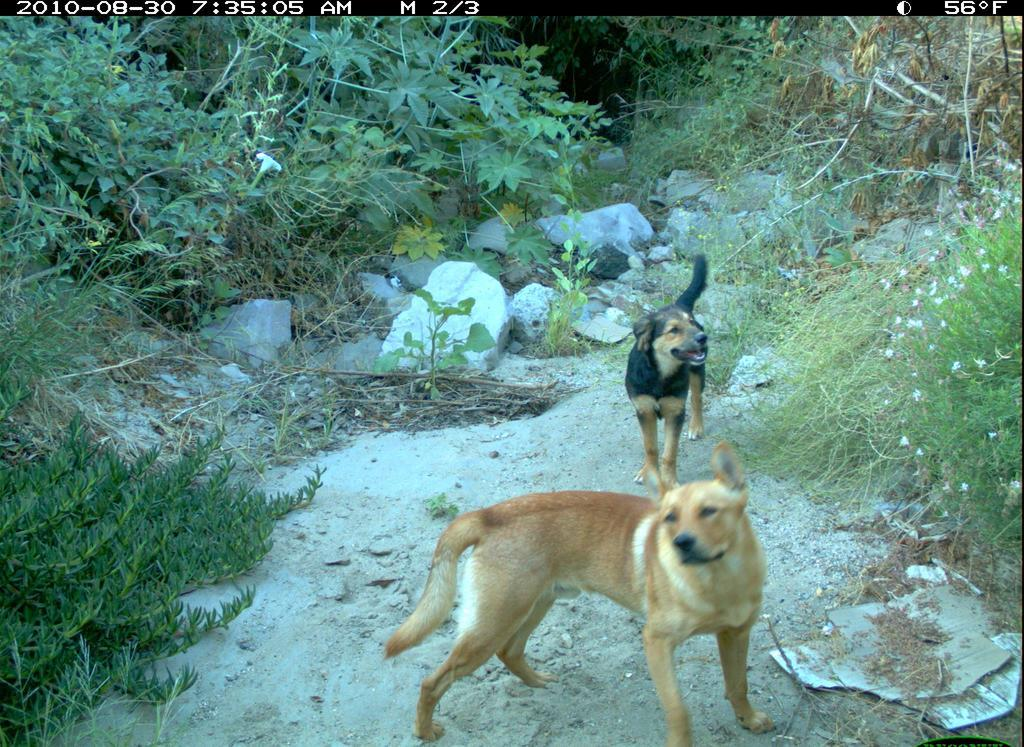dog: (333, 420, 811, 744), (600, 248, 731, 495)
